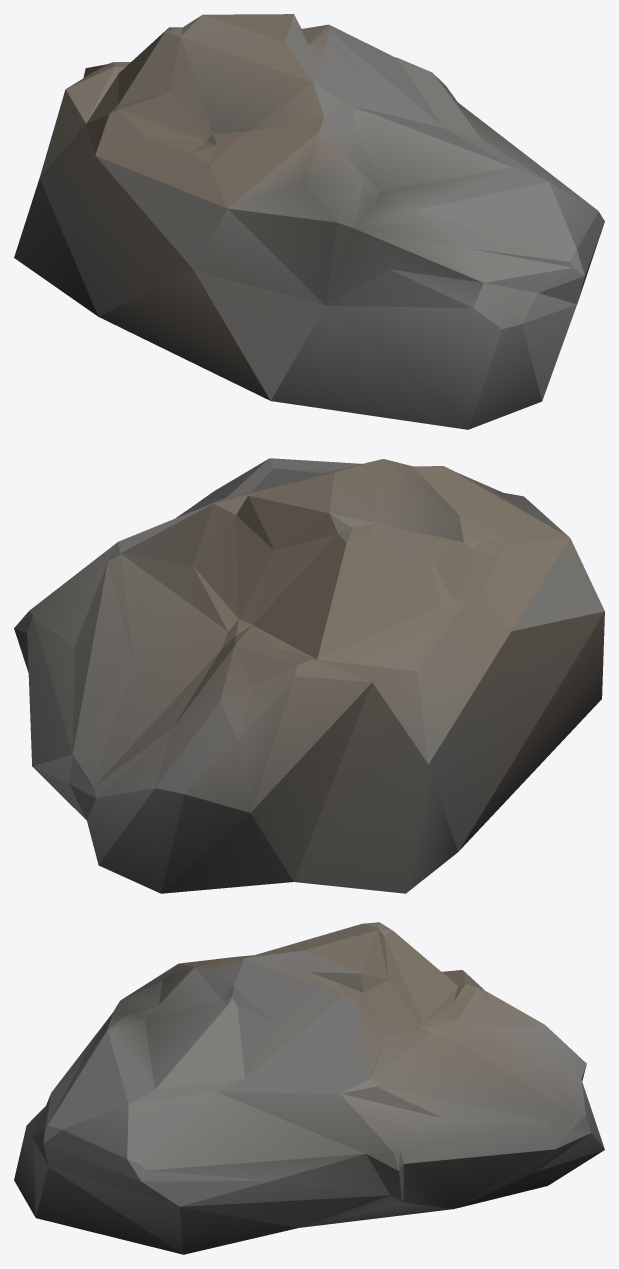
File: MS_Rock_02 1.fbx
3 renders of one model, top to bottom at view 1: azimuth 30°, elevation 25°; view 2: azimuth 150°, elevation 25°; view 3: azimuth 270°, elevation 25°, orthographic. The views are drawn at different scales.
Visible parts, largest first — view 1: MS_Rock_02; view 2: MS_Rock_02; view 3: MS_Rock_02.
Boxes of the visible parts, x1,y1,x2,y2 form: MS_Rock_02: [14, 14, 604, 429]; MS_Rock_02: [14, 458, 604, 893]; MS_Rock_02: [14, 922, 604, 1254].
Bounding box in the file's own units: 46.49 × 32.16 × 70.03.
